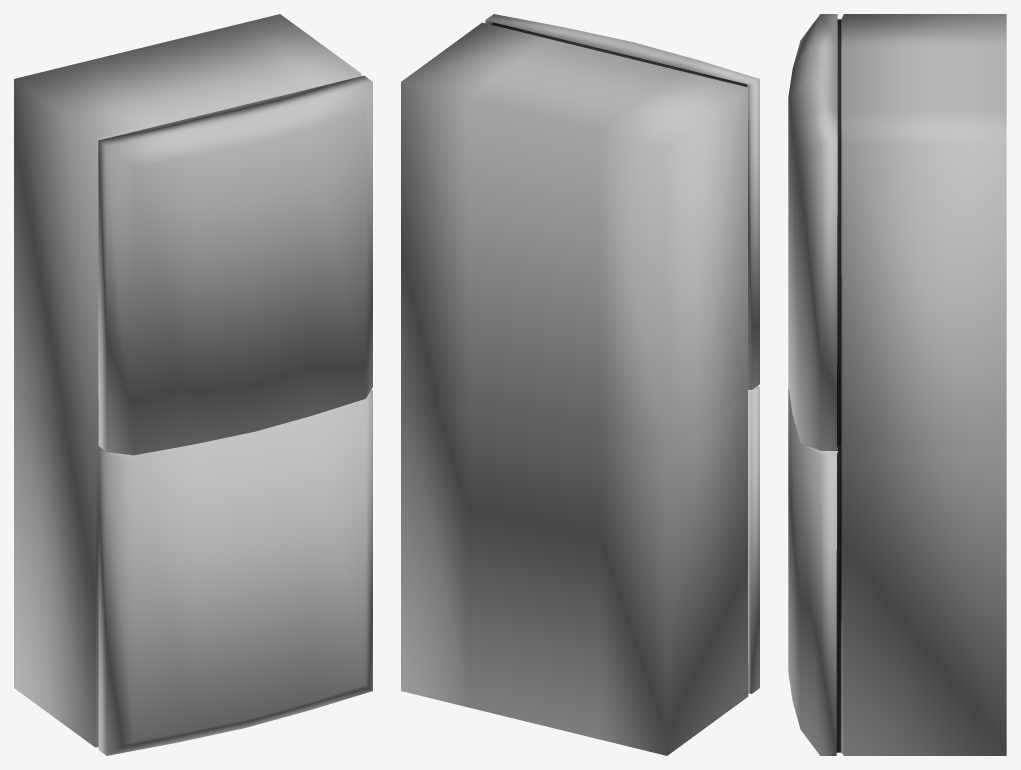
File: GAMEJAMHERO - Prop(Fridge).fbx
3 views of the same model, side by side, from view 1: azimuth 30°, elevation 25°; view 2: azimuth 150°, elevation 25°; view 3: azimuth 270°, elevation 25° (orthographic).
Parts seen in each view (by area): view 1: Plane.003; view 2: Plane.003; view 3: Plane.003.
Part boxes in pixels (bbox=[...]): Plane.003: bbox=[14, 14, 372, 755]; Plane.003: bbox=[401, 14, 759, 755]; Plane.003: bbox=[788, 14, 1006, 755].
Size of the model in its own units: 160 by 350 by 113.
1 material, 1 textured.
